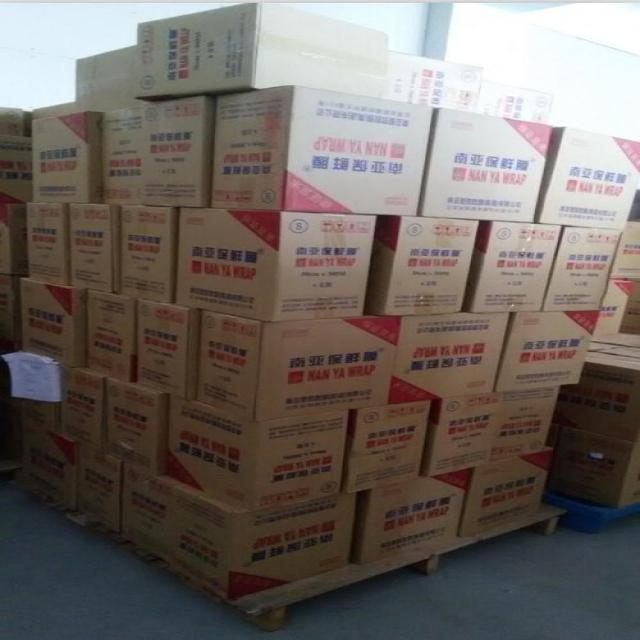box: (120, 462, 355, 600), (210, 87, 434, 217), (134, 1, 388, 103), (175, 207, 378, 323), (197, 310, 401, 422), (165, 396, 351, 510), (420, 108, 554, 222), (353, 467, 475, 565), (367, 214, 480, 316), (389, 312, 512, 405), (534, 127, 640, 230), (465, 220, 562, 313), (138, 96, 214, 207), (497, 312, 600, 391), (460, 448, 550, 537), (347, 400, 433, 493), (547, 426, 640, 507), (557, 352, 640, 440), (420, 391, 503, 478), (544, 225, 623, 312), (134, 300, 201, 399), (106, 377, 172, 476), (32, 113, 102, 203), (384, 51, 484, 111), (22, 278, 88, 367), (120, 205, 179, 303), (492, 387, 562, 462), (86, 289, 138, 382), (68, 203, 122, 292), (74, 45, 145, 112), (22, 429, 78, 511), (102, 104, 143, 205), (79, 444, 123, 534), (61, 365, 106, 451), (27, 203, 69, 285), (479, 82, 553, 124), (594, 279, 634, 337), (0, 135, 32, 202), (0, 203, 27, 276), (611, 222, 640, 279), (0, 275, 20, 355), (22, 399, 60, 437), (593, 340, 640, 358), (594, 332, 640, 348), (0, 108, 26, 135)
